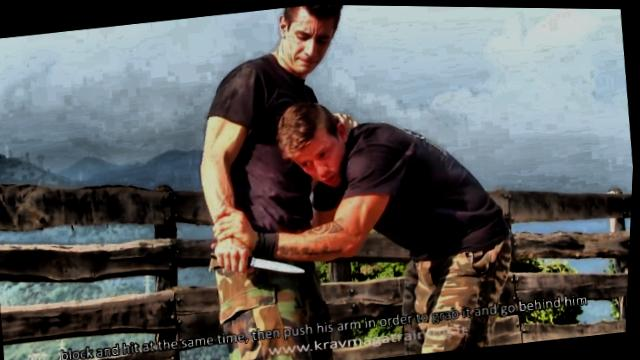knife: (206, 228, 314, 288)
